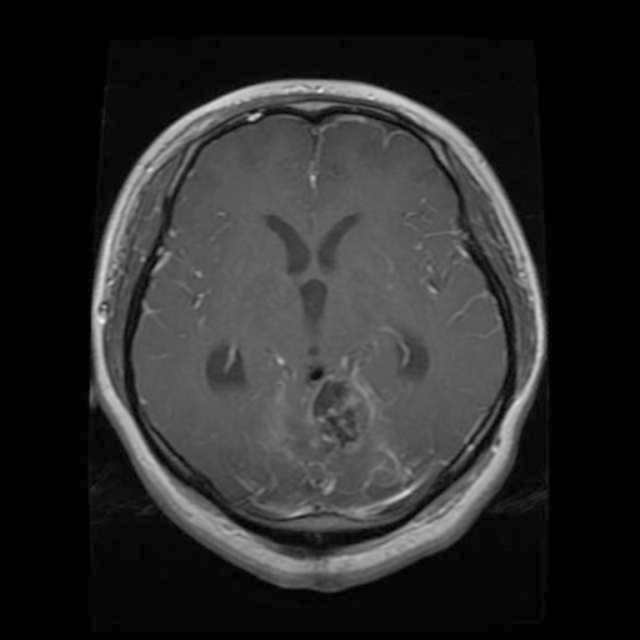pituitary tumor: (308, 380, 380, 446)
